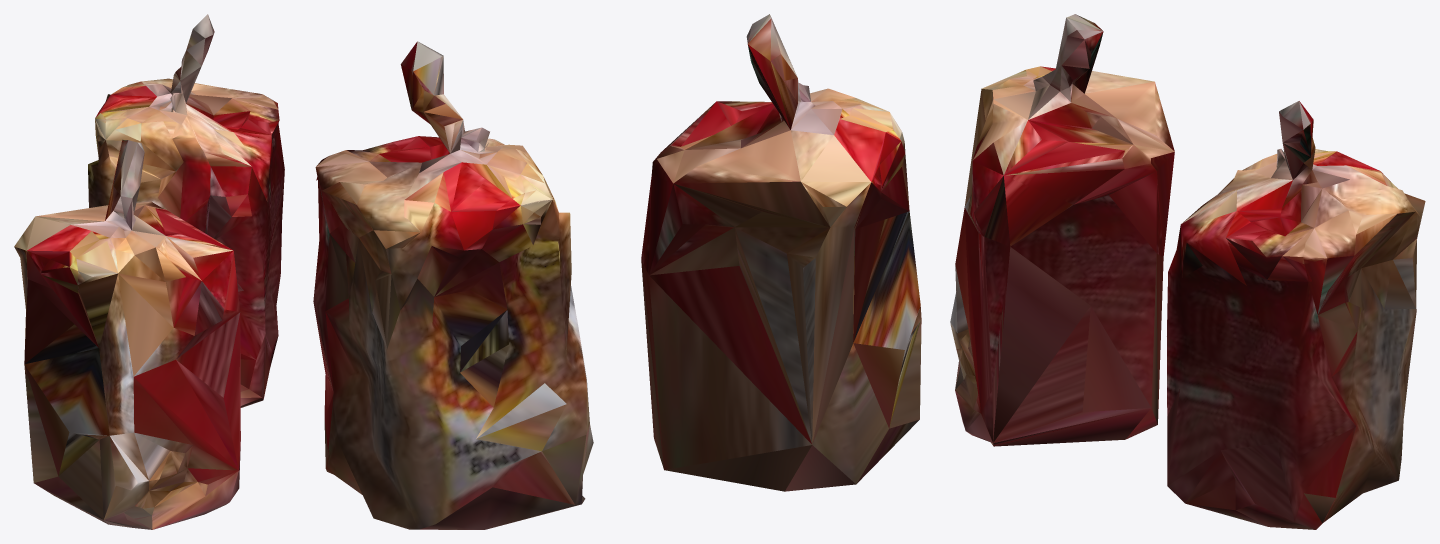
The model's file is sandwich_bread_optimised.glb.
3 renders of one model, left to right at view 1: azimuth 30°, elevation 25°; view 2: azimuth 150°, elevation 25°; view 3: azimuth 270°, elevation 25°, orthographic. The views are drawn at different scales.
Visible parts, largest first — view 1: Retopo_DModel:submesh, submesh_DModel:nil1_0; view 2: Retopo_DModel:submesh, submesh_DModel:nil1_0; view 3: submesh_DModel:nil1_0, Retopo_DModel:submesh.
Part boxes in pixels (<box>): Retopo_DModel:submesh: <box>14,139,240,529</box>; submesh_DModel:nil1_0: <box>88,14,284,407</box>; Retopo_DModel:submesh: <box>641,14,921,491</box>; submesh_DModel:nil1_0: <box>313,41,593,529</box>; submesh_DModel:nil1_0: <box>1167,101,1425,529</box>; Retopo_DModel:submesh: <box>950,14,1174,446</box>.
Size of the model in its own units: 0.3491 by 0.3467 by 0.366.
Materials: 1 (1 with a texture image).
